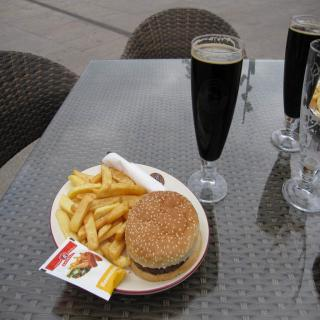French fries: (70, 164, 140, 275)
Hamburger: (125, 190, 202, 282)
